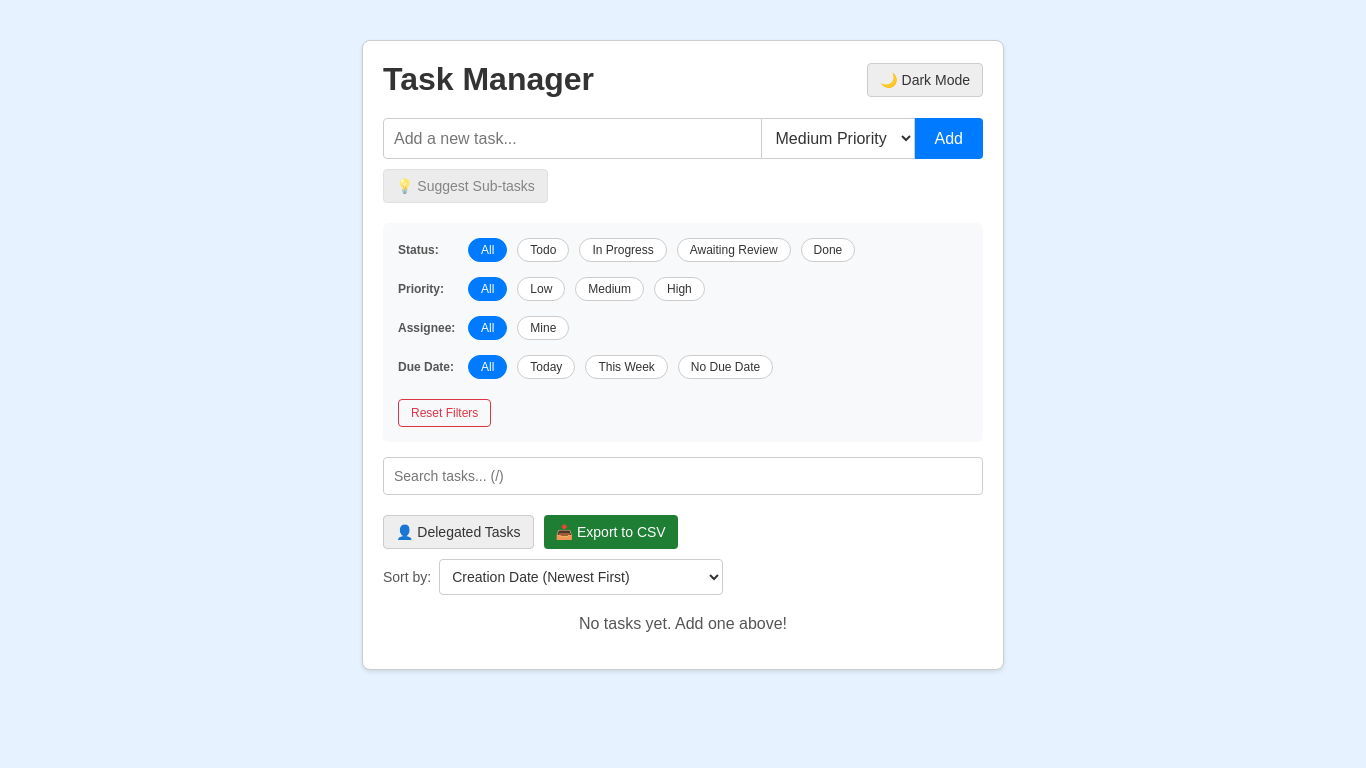
Test case: Dark Mode Functionality › toggles dark mode when button is clicked
The width and height of the screenshot is (1366, 768).
Click to toggle to Dark Mode
Click the button "🌙 Dark Mode" at [925, 80], box [867, 62, 983, 96]
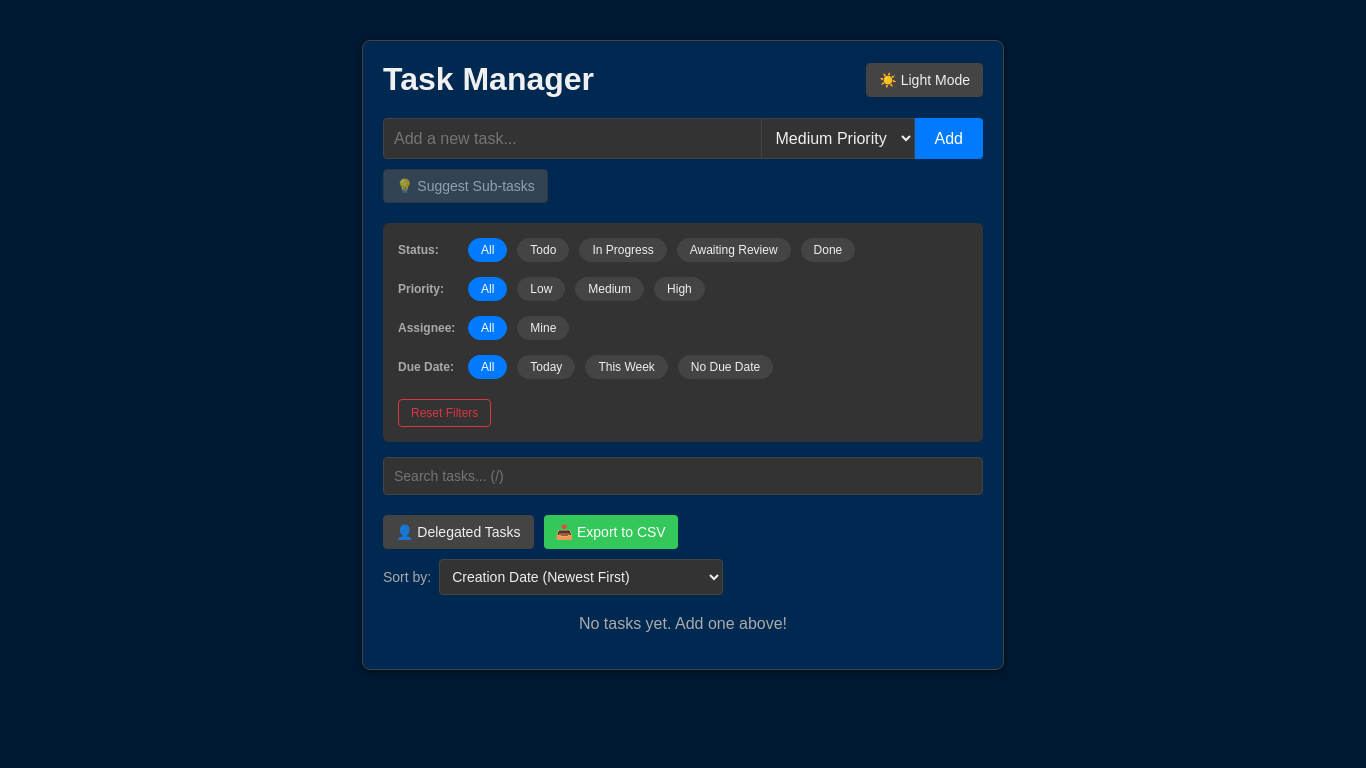
Expected: the button "☀️ Light Mode" is shown
Click again to toggle back to Light Mode
Click the button "☀️ Light Mode" at [925, 80], box [866, 62, 983, 96]
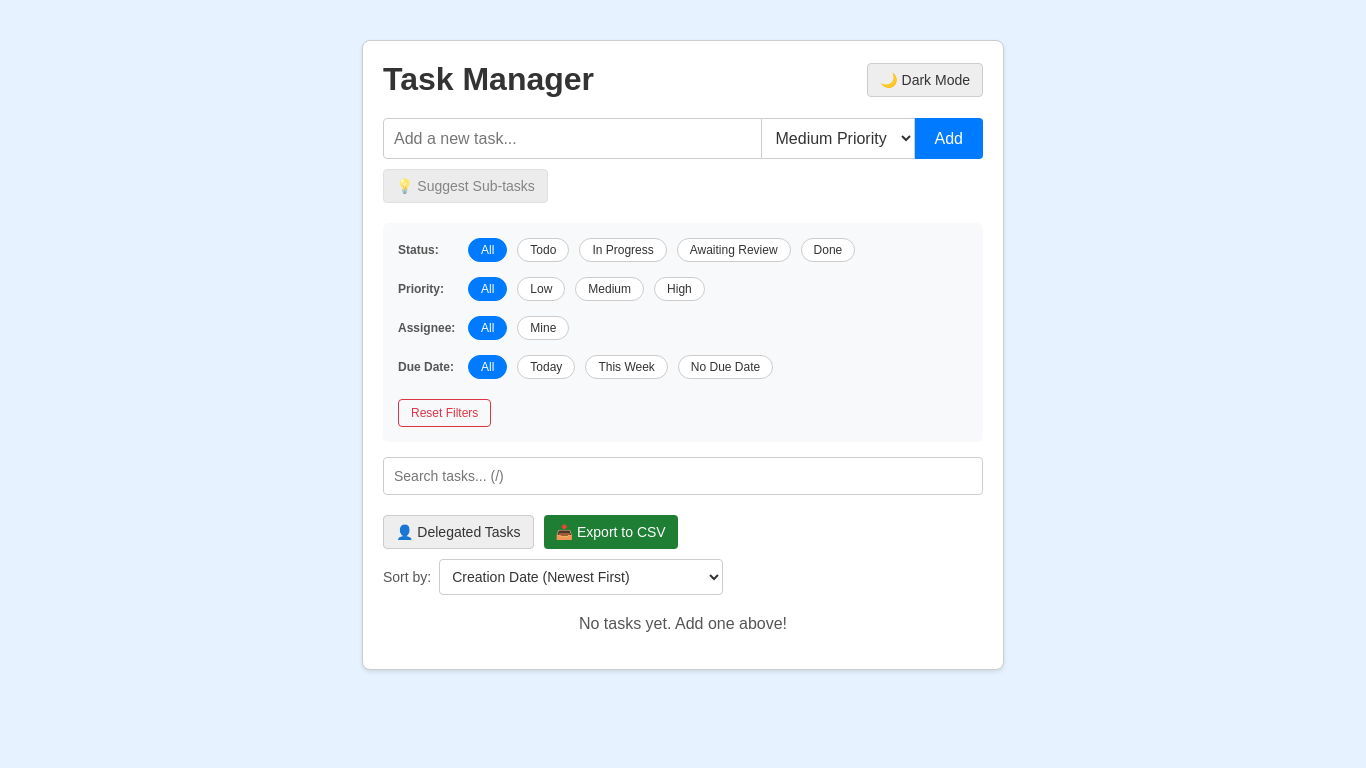
Expected: the button "🌙 Dark Mode" is shown, [867, 62, 983, 96]
